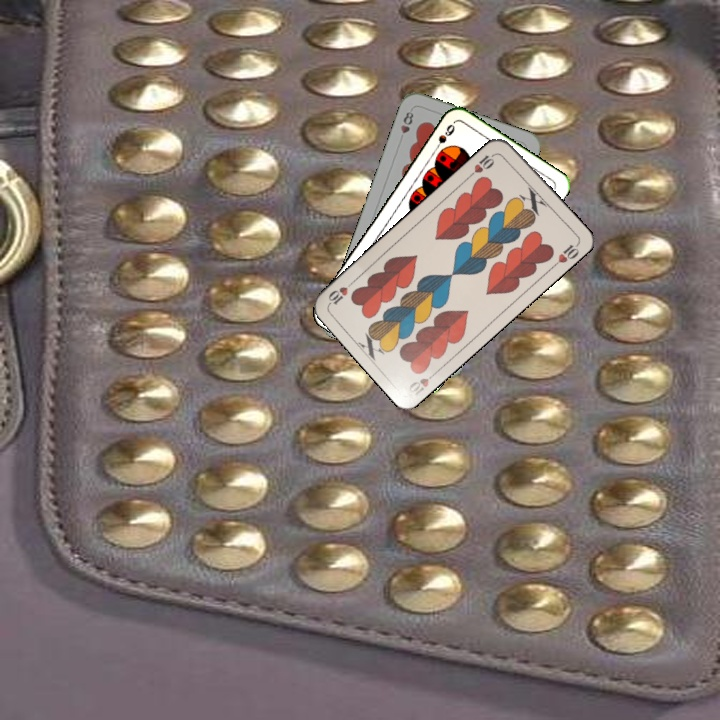H10: (405, 367, 440, 398), (465, 149, 499, 180)
H8: (395, 107, 416, 144)
S9: (429, 120, 458, 155)
